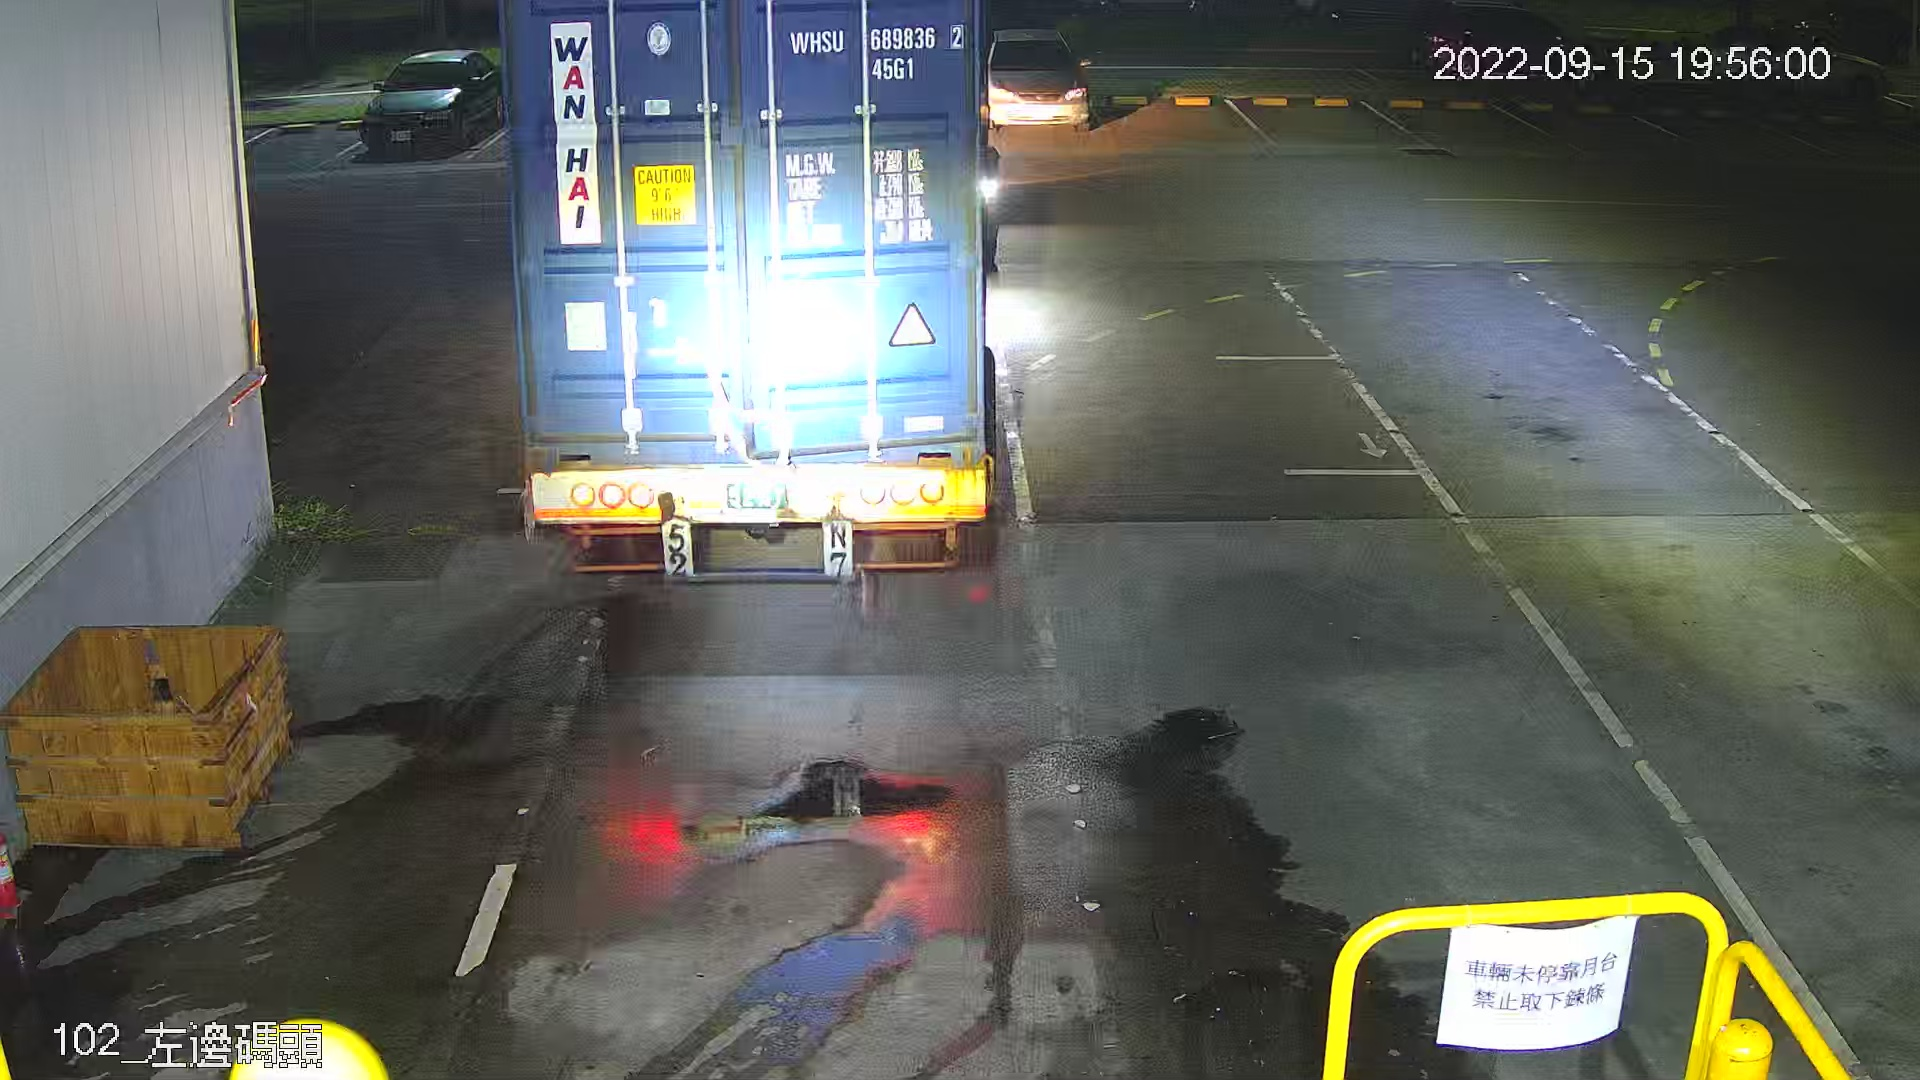container: (856, 20, 1038, 105)
